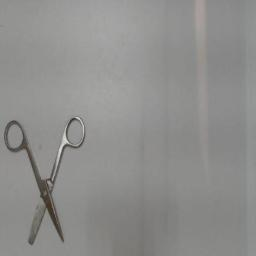Dressing Scissors: (1, 109, 91, 251)
